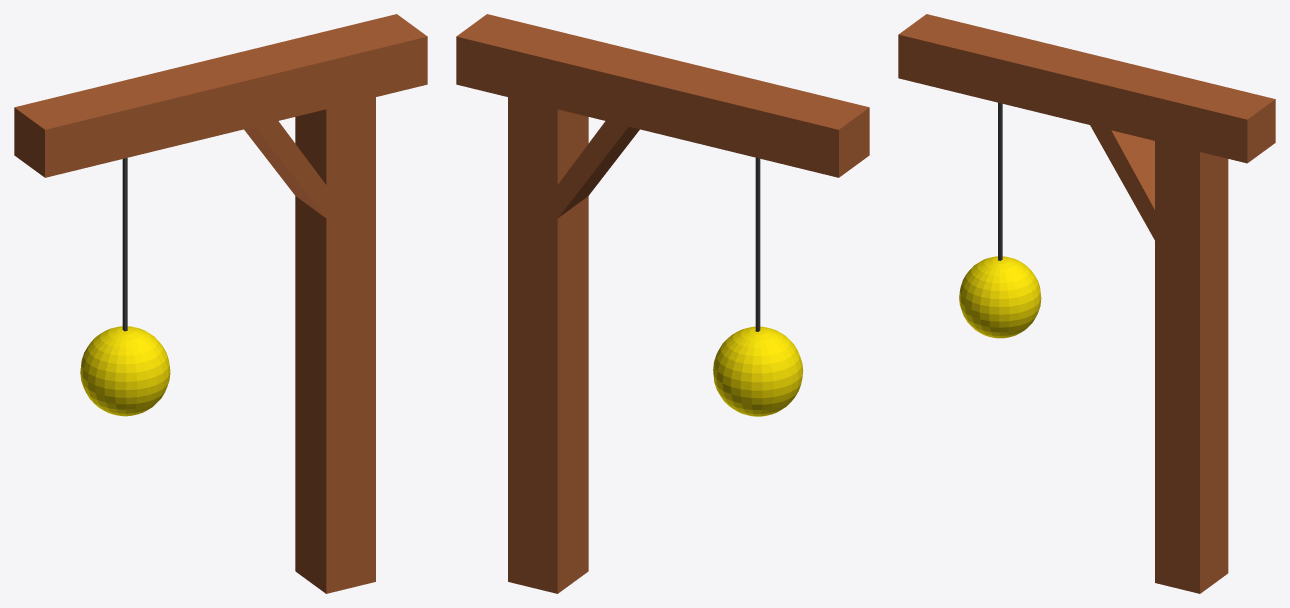
The model's file is iplitahtav3.fbx.
3 views of the same model, side by side, from view 1: azimuth 30°, elevation 25°; view 2: azimuth 150°, elevation 25°; view 3: azimuth 330°, elevation 25° (orthographic). The views are drawn at different scales.
Parts seen in each view (by area): view 1: Cube, Sphere, Cube.001; view 2: Cube, Sphere, Cube.001; view 3: Cube, Sphere, Cube.001.
Boxes of the visible parts, x1,y1,x2,y2 form: Cube: (14,14,427,593); Sphere: (80,326,170,416); Cube.001: (122,158,127,331); Cube: (456,14,869,593); Sphere: (713,326,803,416); Cube.001: (755,157,760,331); Cube: (898,14,1275,593); Sphere: (959,256,1041,338); Cube.001: (998,102,1002,260).
Size of the model in its own units: 1301 by 199 by 978.
